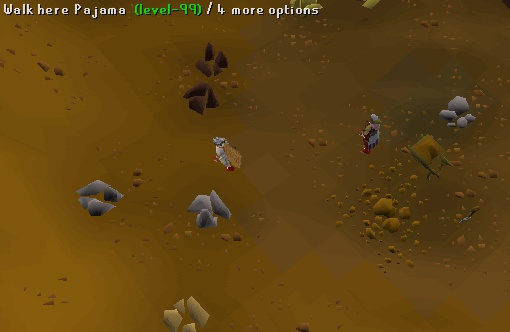clay: (153, 290, 224, 332)
iron: (173, 76, 232, 122), (178, 34, 237, 80)
tin: (183, 186, 242, 237), (67, 176, 126, 227)
